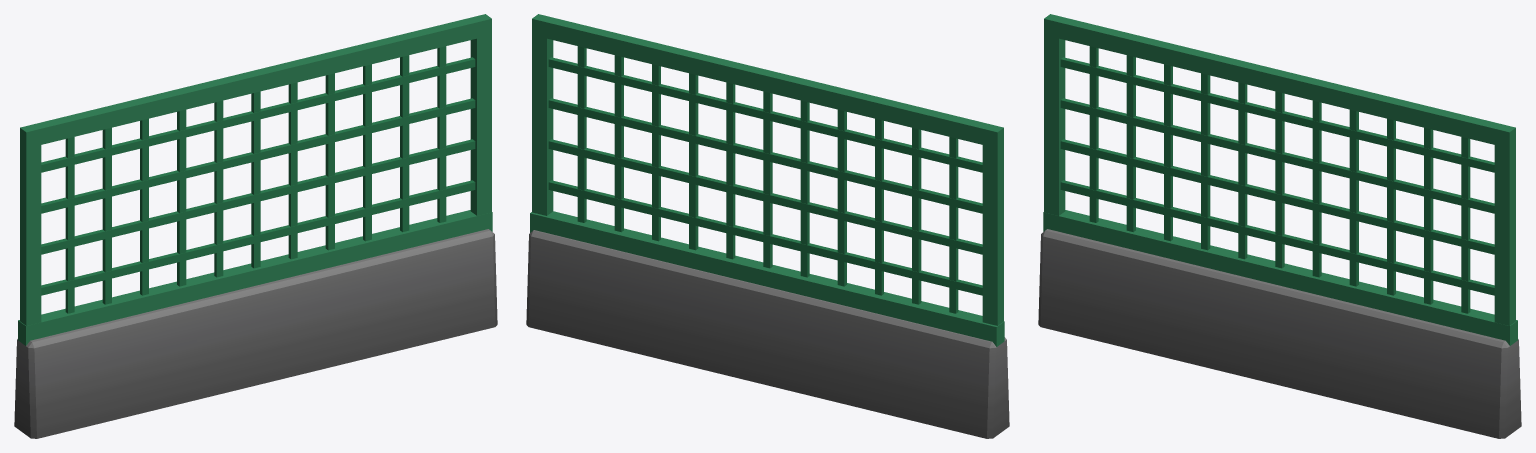
The model's file is Fence_1_B_4.fbx.
3 views of the same model, side by side, from view 1: azimuth 30°, elevation 25°; view 2: azimuth 150°, elevation 25°; view 3: azimuth 330°, elevation 25° (orthographic).
Visible parts, largest first — view 1: Fence_1_B_4; view 2: Fence_1_B_4; view 3: Fence_1_B_4.
Part boxes in pixels (bbox=[...]): Fence_1_B_4: bbox=[14, 14, 497, 438]; Fence_1_B_4: bbox=[526, 14, 1009, 438]; Fence_1_B_4: bbox=[1038, 14, 1521, 438].
Bounding box in the file's own units: 400 × 248 × 30.52.
